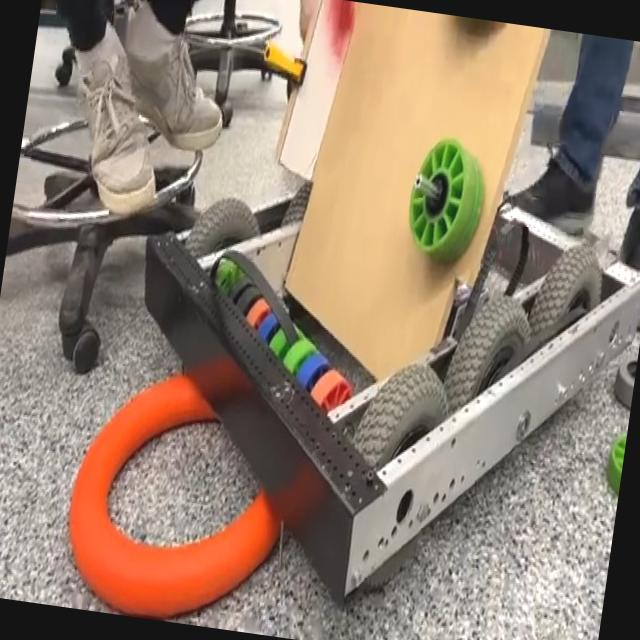note: (54, 332, 358, 640)
